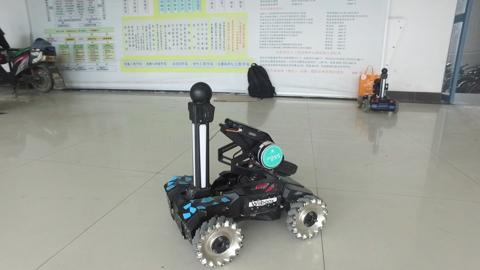bag: (244, 61, 279, 102), (357, 63, 381, 99)
chariot: (162, 79, 330, 270), (357, 67, 401, 115)
